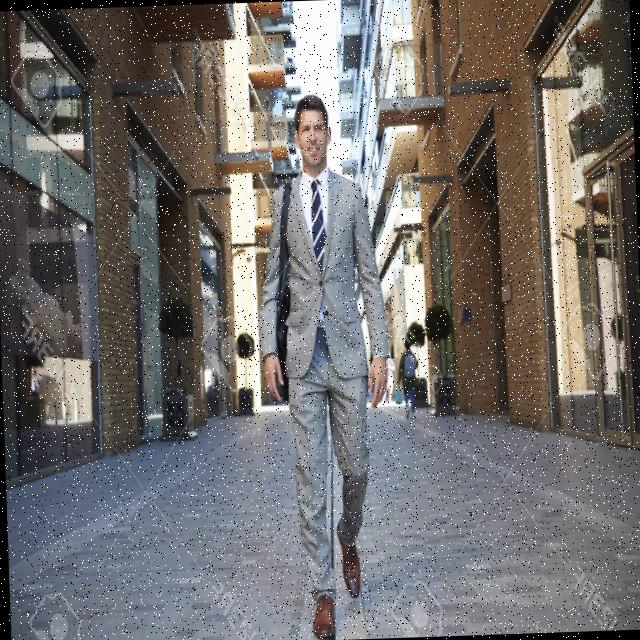Person: (252, 92, 400, 640)
